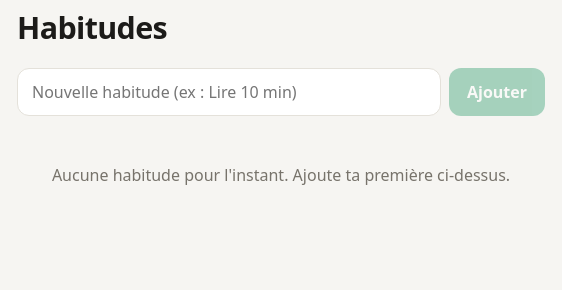
App removal › asks for confirmation before removing a habit
Type "Sport" into the field labelled "Nouvelle habitude" at (229, 92), box [17, 68, 441, 116]
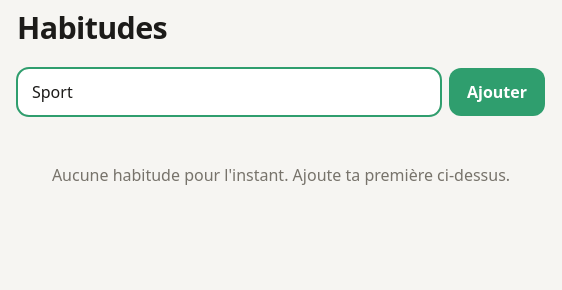
Click the button "Ajouter" at (497, 92), box [449, 68, 545, 116]
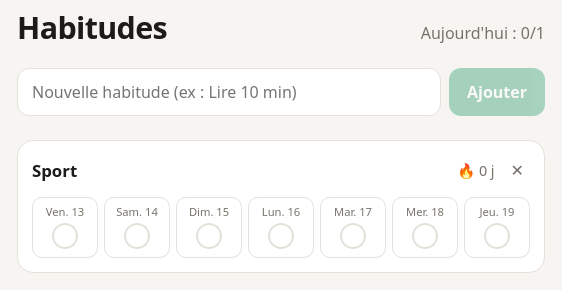
Click the button named "Supprimer Sport" at (517, 170), box [505, 155, 530, 185]
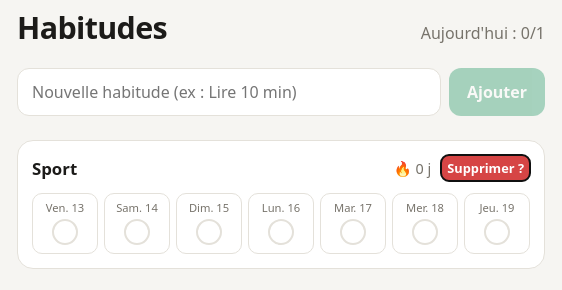
Result: the heading "Sport" is shown at [32, 156, 77, 180]
Click the button with aria-label "Confirmer la suppression de Sport" at (486, 168), box [441, 155, 530, 181]
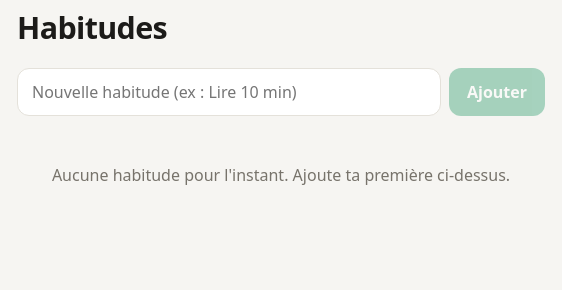
Result: the heading "Sport" is gone
